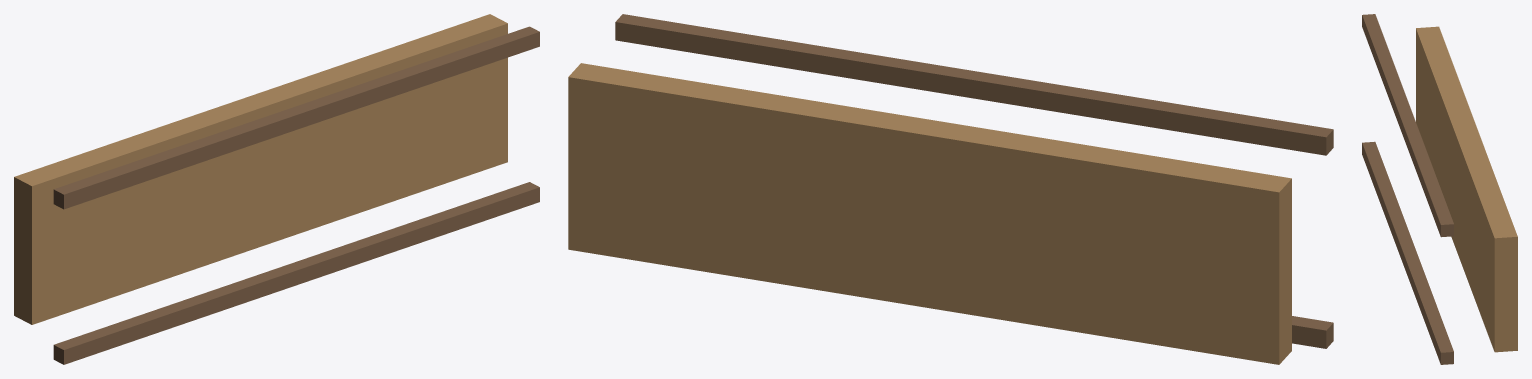
File: skyship_gangplank.glb
3 renders of one model, left to right at view 1: azimuth 30°, elevation 25°; view 2: azimuth 150°, elevation 25°; view 3: azimuth 270°, elevation 25°, orthographic. The views are drawn at different scales.
Visible parts, largest first — view 1: plank, rail_l, rail_r; view 2: plank, rail_r, rail_l; view 3: plank, rail_r, rail_l.
Part boxes in pixels (<box>): plank: <box>14,14,507,324</box>; rail_l: <box>53,182,539,364</box>; rail_r: <box>53,26,539,209</box>; plank: <box>568,63,1291,364</box>; rail_r: <box>615,14,1333,155</box>; rail_l: <box>1292,316,1333,348</box>; plank: <box>1416,26,1517,352</box>; rail_r: <box>1362,14,1453,237</box>; rail_l: <box>1362,141,1453,364</box>.
Size of the model in its own units: 2.98 by 0.92 by 0.9279.
